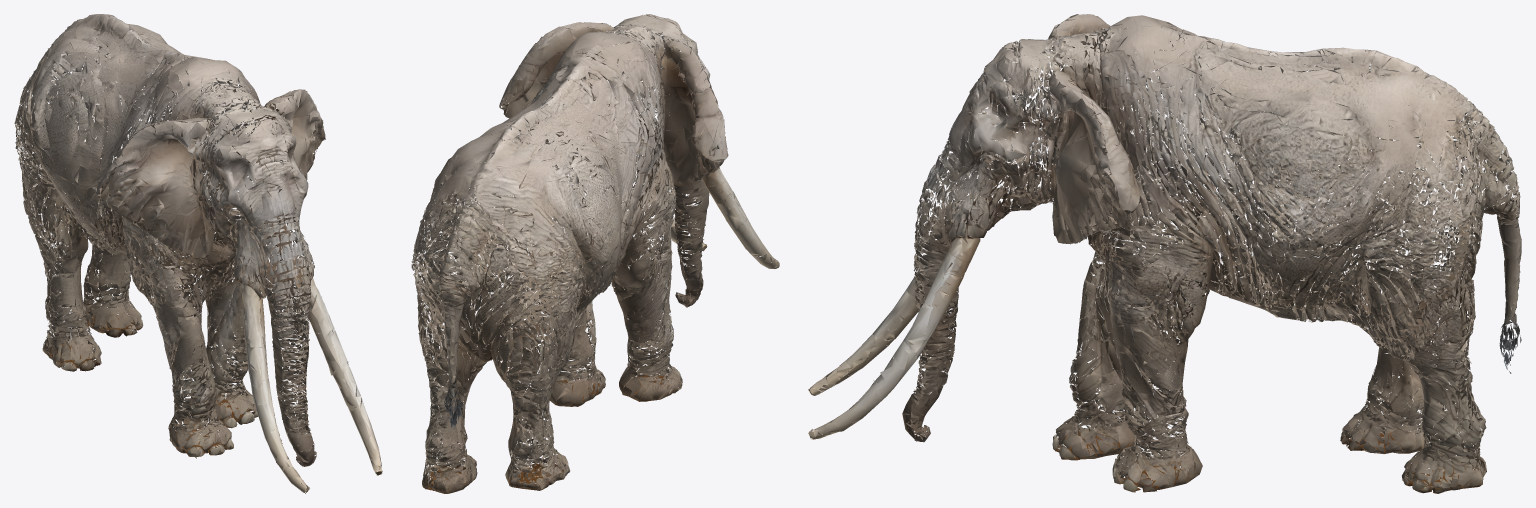
The model's file is elephant.glb.
3 renders of one model, left to right at view 1: azimuth 30°, elevation 25°; view 2: azimuth 150°, elevation 25°; view 3: azimuth 270°, elevation 25°, orthographic. The views are drawn at different scales.
Parts seen in each view (by area): view 1: model; view 2: model; view 3: model.
Boxes of the visible parts, left/top/right/bottom form: model: left=14, top=14, right=382, bottom=493; model: left=411, top=14, right=779, bottom=493; model: left=808, top=14, right=1521, bottom=493.
Size of the model in its own units: 0.8452 by 1.29 by 1.9.
1 material, 1 textured.
